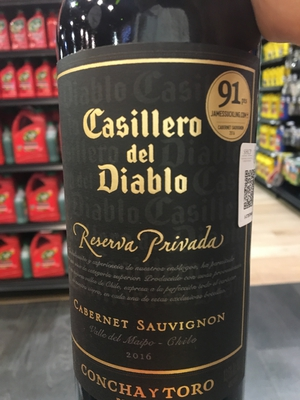casillero del diablo reserva privada cabernet sauvignon: (49, 10, 271, 400)
